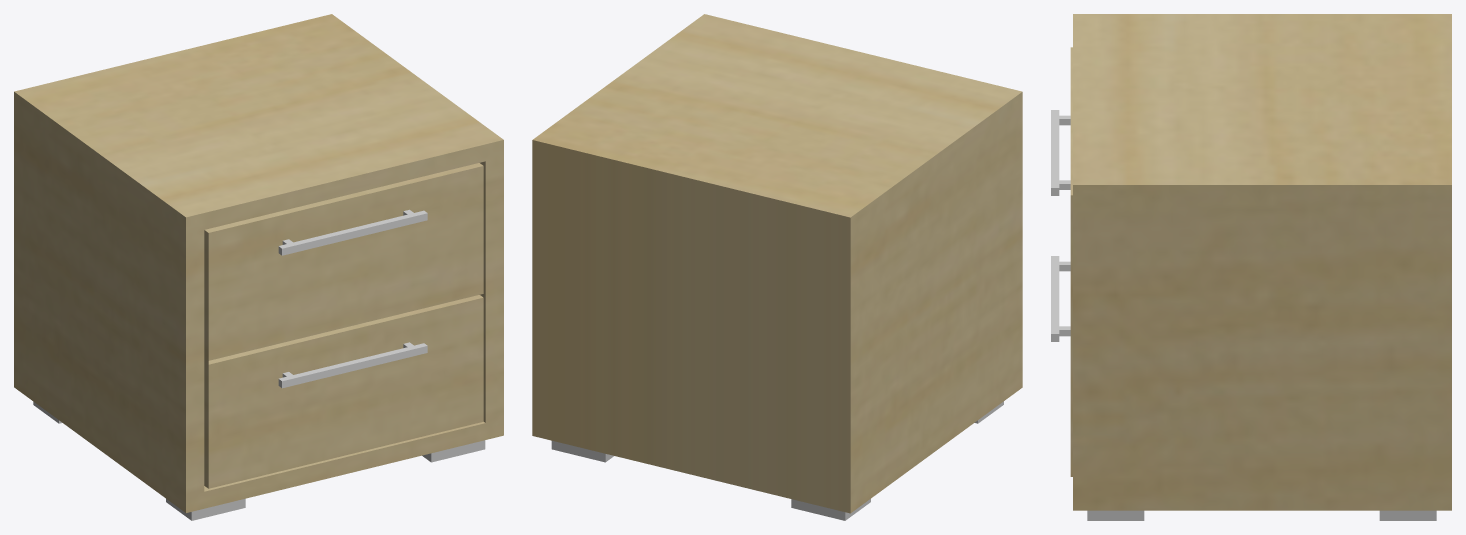
Rendered from sweethome3d-blendswap-cc-0-bedside-table.glb.
The picture shows the model from 3 angles, left to right: view 1: azimuth 30°, elevation 25°; view 2: azimuth 150°, elevation 25°; view 3: azimuth 270°, elevation 25°; orthographic projection. The views are drawn at different scales.
Visible parts, largest first — view 1: bedside_table.001_Cube.005; view 2: bedside_table.001_Cube.005; view 3: bedside_table.001_Cube.005.
Boxes of the visible parts, box(x1,y1,x2,y2) form: bedside_table.001_Cube.005: box(14, 14, 503, 520); bedside_table.001_Cube.005: box(532, 14, 1022, 520); bedside_table.001_Cube.005: box(1051, 14, 1451, 520).
Bounding box in the file's own units: 48.56 × 45.42 × 48.13.
3 materials, 1 textured.
